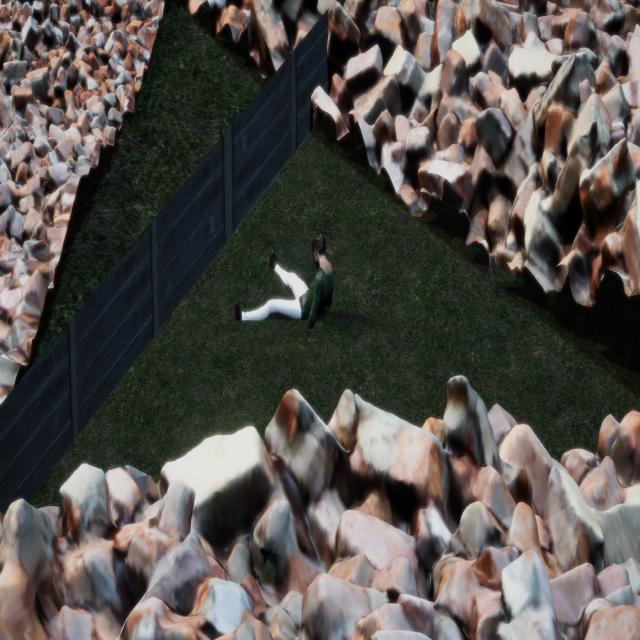Human: (227, 210, 343, 365)
